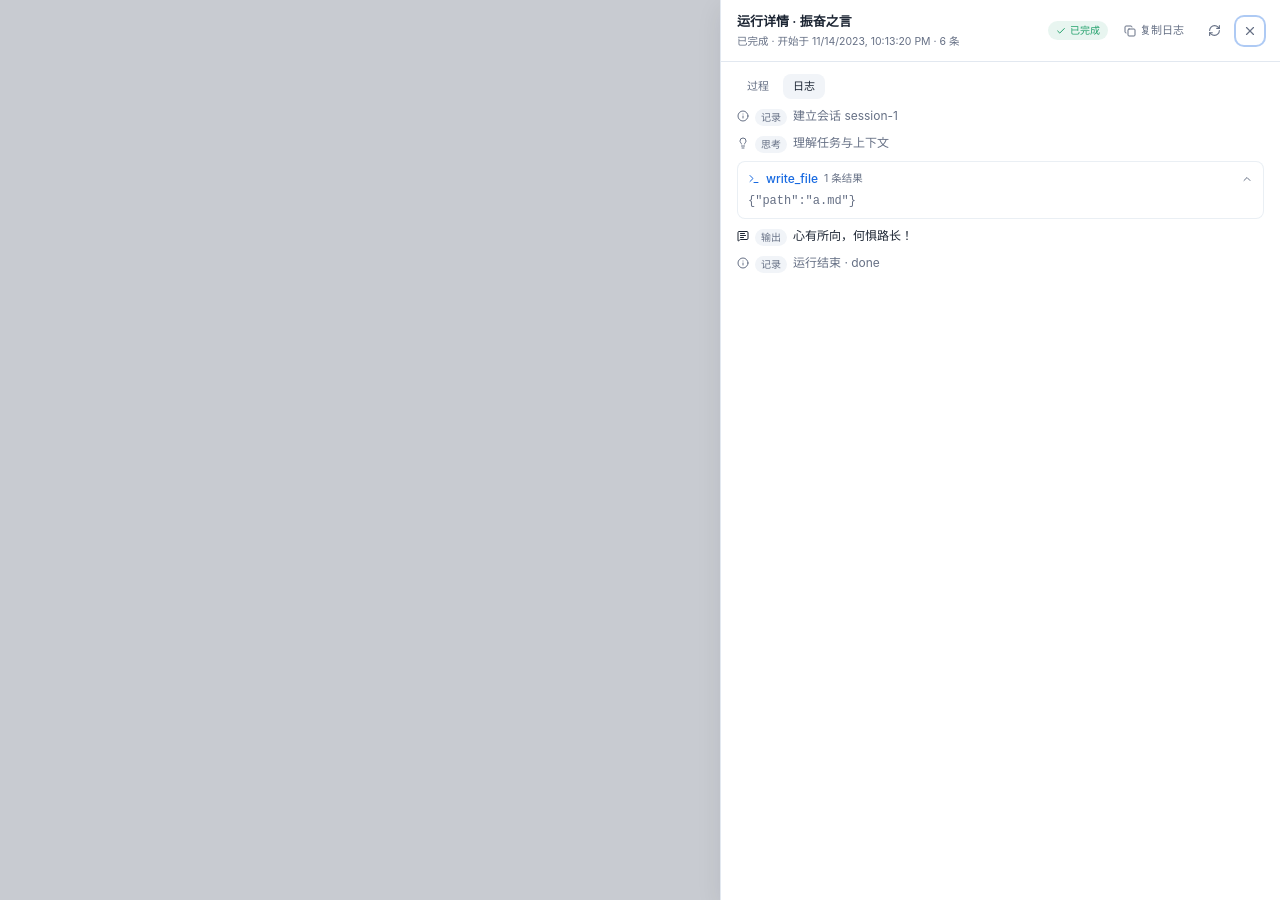
Test: CanvasRunLogViewer 详细运行日志 › 按游标翻页读取持久日志，结构化渲染（工具卡片 / 分类标签 / meta 行），读到 close 后停止
This screenshot has width=1280, height=900.
Check: the button named "刷新运行日志" is shown, box [1200,17,1228,45]
Check: the button named "关闭运行日志面板" is shown, box [1236,17,1264,45]
Click the tab "过程".
click(758, 87)  # box [737,74,779,99]
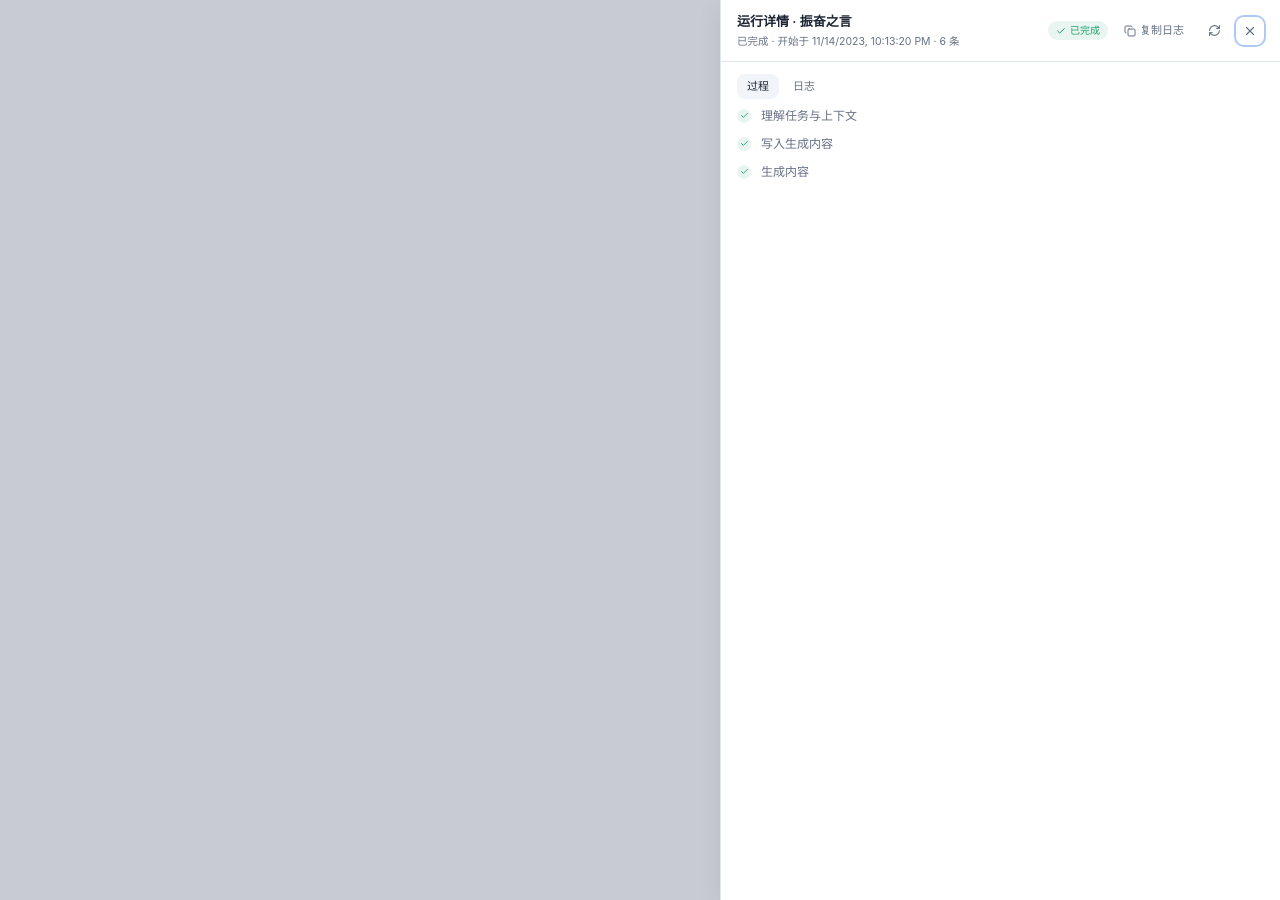
Check: the text "理解任务与上下文" is shown, box [761,107,857,125]
Check: the text "生成内容" is shown, box [761,136,833,151]
